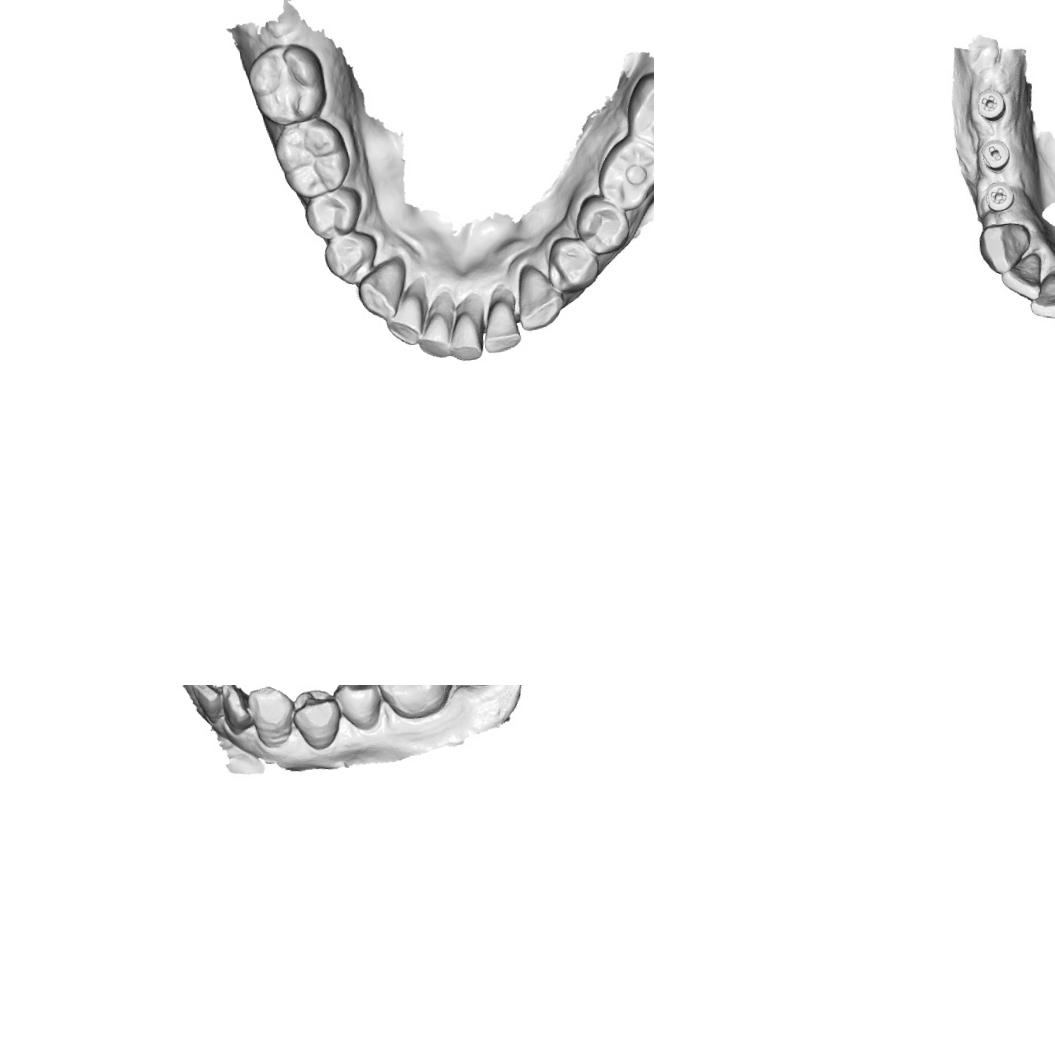canine: (512, 262, 566, 336), (244, 685, 299, 750), (975, 220, 1034, 277), (356, 262, 407, 318)
implant_minus: (978, 136, 1012, 173)
implant_plus: (973, 86, 1008, 124), (982, 178, 1016, 215)
incisor: (410, 293, 463, 362), (381, 288, 431, 349), (442, 299, 487, 365), (477, 296, 526, 355), (999, 252, 1046, 304), (219, 685, 257, 736), (1025, 272, 1055, 323), (190, 685, 226, 726)
molar: (243, 37, 331, 130), (269, 115, 355, 204), (593, 135, 654, 216), (372, 685, 458, 724), (618, 67, 654, 153)
premolar: (570, 189, 634, 260), (300, 184, 368, 244), (321, 226, 384, 288), (542, 232, 602, 296), (289, 686, 345, 753), (331, 685, 385, 734)
